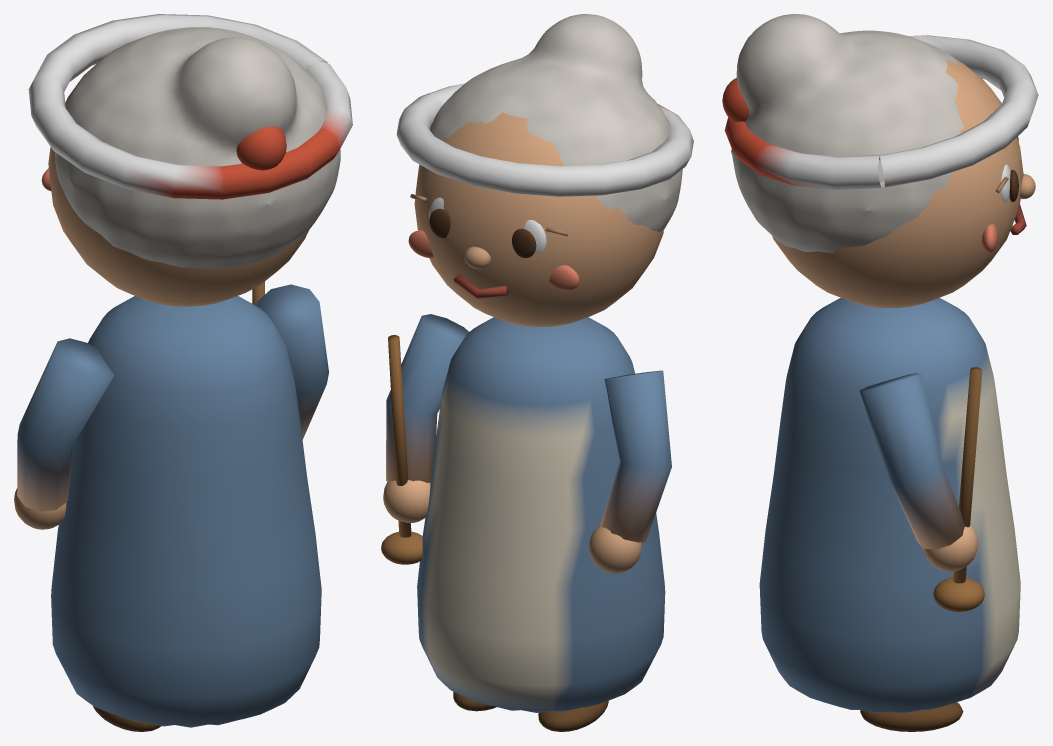
Rendered from melanie.glb.
3 renders of one model, left to right at view 1: azimuth 30°, elevation 25°; view 2: azimuth 150°, elevation 25°; view 3: azimuth 270°, elevation 25°, orthographic. The views are drawn at different scales.
Parts seen in each view (by area): view 1: Body, Head; view 2: Body, Head; view 3: Body, Head.
Part boxes in pixels (bbox=[...]): Body: bbox=[14, 281, 328, 731]; Head: bbox=[28, 14, 352, 306]; Body: bbox=[381, 314, 671, 731]; Head: bbox=[396, 14, 693, 326]; Body: bbox=[759, 298, 1020, 731]; Head: bbox=[722, 14, 1038, 307].
Bounding box in the file's own units: 0.7833 × 1.76 × 0.7348.
